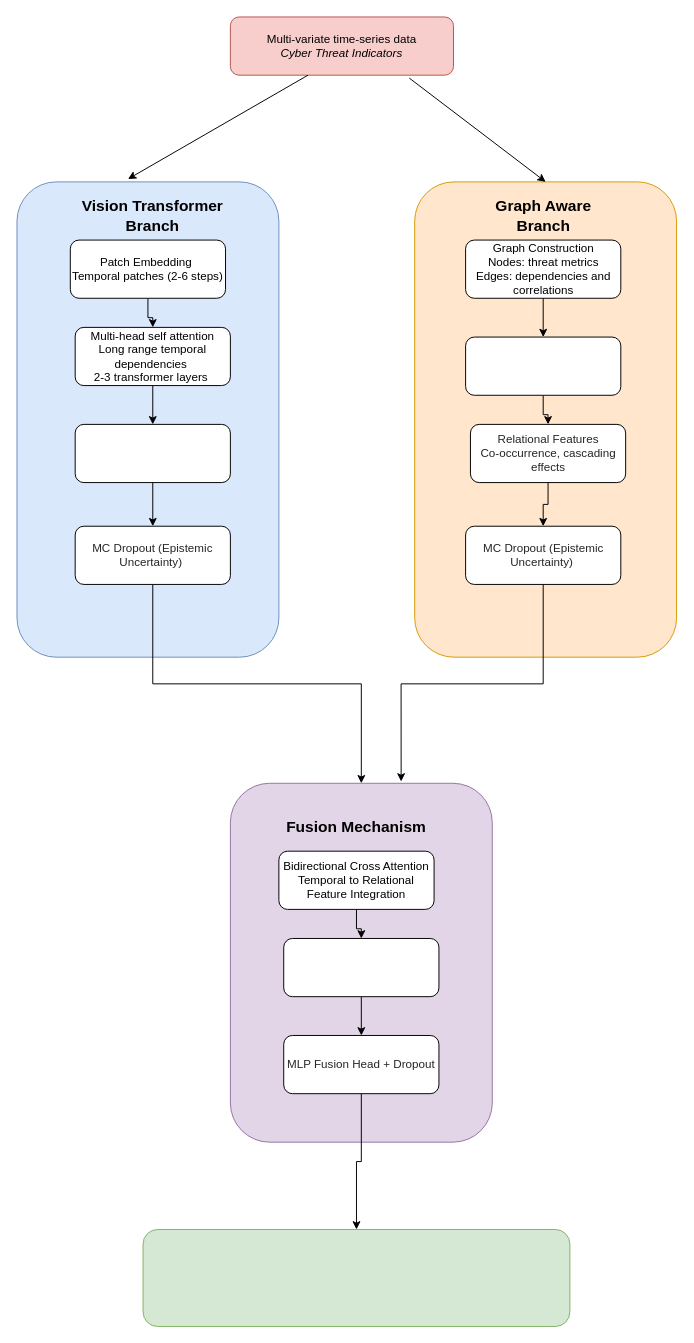
Image size: 694x1343. Some labels were removed from this diagram. Each missing label, with the centre of its shape:
Dynamic Weighting (softmax) Adaptive branch contribution balancing: (361,967)
Graph Transformer Encoder Node wise self attention: (543,365)
Temporal Features Mulki-scale patterns, evolution trends: (152,453)
Threat Forecast + Uncertainty Estimates: (356,1277)
